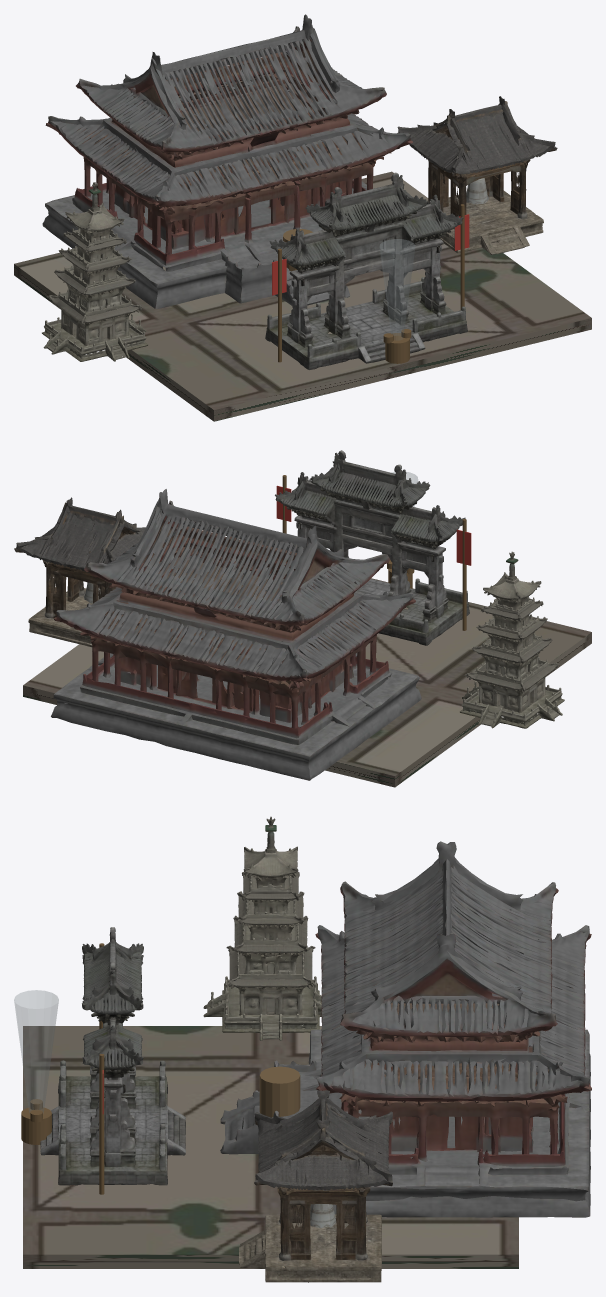
File: temple_assembled8_opt.glb
3 views of the same model, one above another, from view 1: azimuth 30°, elevation 25°; view 2: azimuth 150°, elevation 25°; view 3: azimuth 270°, elevation 25° (orthographic). The views are drawn at different scales.
Visible parts, largest first — view 1: geometry_0.001, Cube, geometry_0, geometry_0.003, geometry_0.002, Cone, Cylinder.001, Cube.001; view 2: geometry_0.001, geometry_0, Cube, geometry_0.002, geometry_0.003, Cylinder.001, Cube.001; view 3: geometry_0.001, Cube, geometry_0.003, geometry_0, geometry_0.002, Cone, Cylinder.001, Cylinder.
Part boxes in pixels (x1,y1,x2,y2): geometry_0.001: [42, 14, 412, 308]; Cube: [14, 171, 591, 421]; geometry_0: [265, 172, 467, 369]; geometry_0.003: [397, 96, 557, 254]; geometry_0.002: [42, 182, 147, 361]; Cone: [380, 239, 415, 339]; Cylinder.001: [278, 204, 464, 363]; Cube.001: [272, 214, 469, 295]; geometry_0.001: [51, 489, 421, 780]; geometry_0: [275, 450, 469, 645]; Cube: [23, 578, 591, 787]; geometry_0.002: [460, 551, 564, 728]; geometry_0.003: [14, 497, 145, 647]; Cylinder.001: [282, 475, 466, 630]; Cube.001: [276, 485, 471, 565]; geometry_0.001: [220, 841, 591, 1217]; Cube: [23, 1026, 518, 1268]; geometry_0.003: [239, 1090, 392, 1282]; geometry_0: [40, 927, 185, 1185]; geometry_0.002: [203, 816, 321, 1040]; Cone: [14, 990, 58, 1113]; Cylinder.001: [21, 943, 104, 1194]; Cylinder: [259, 1066, 300, 1117].
Bounding box in the file's own units: 16 × 6.54 × 12.82.
9 materials, 5 textured.
